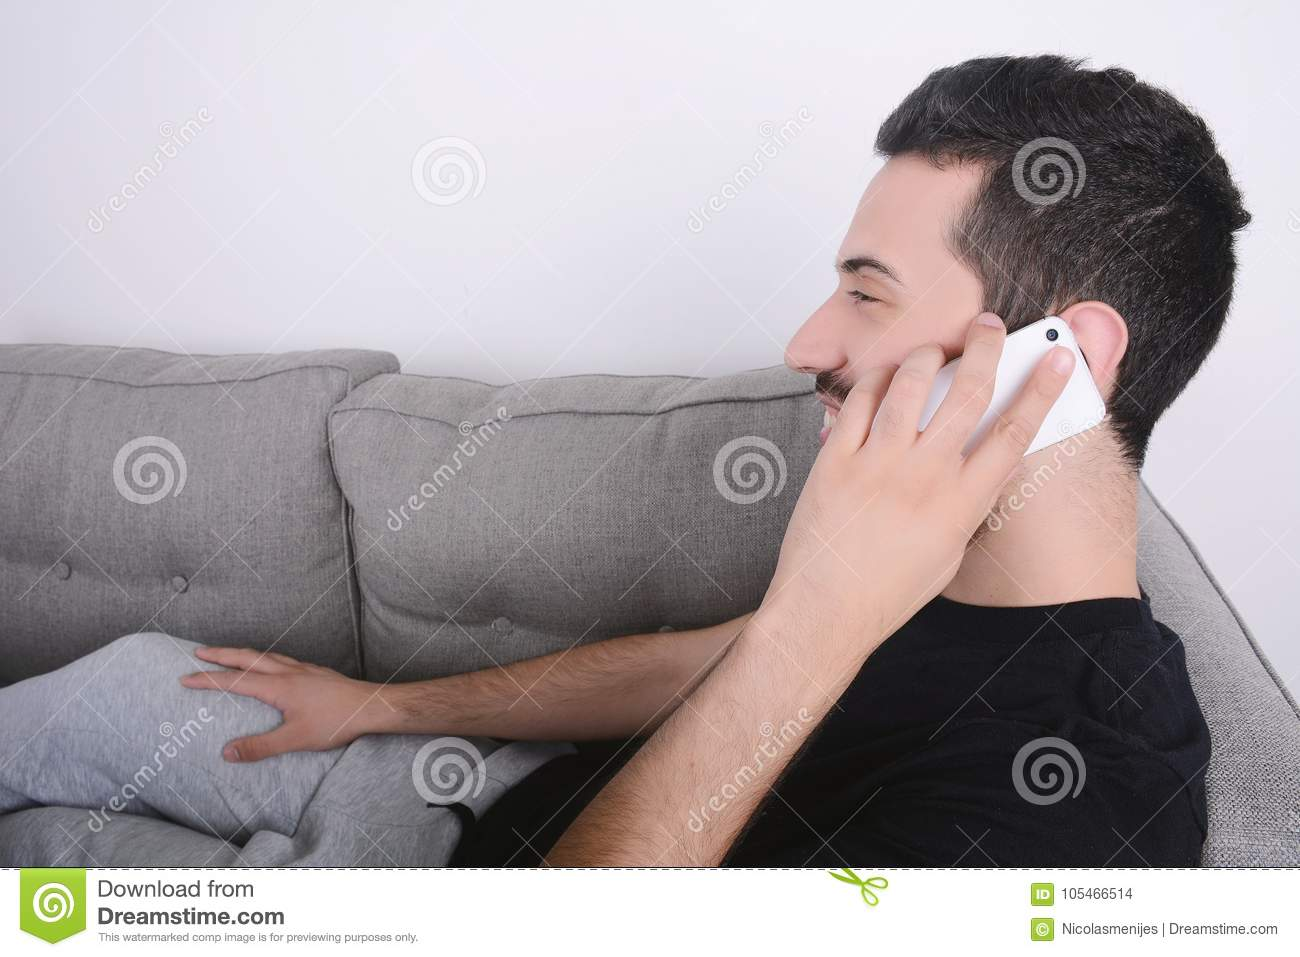phone: (878, 313, 1107, 470)
talk: (782, 259, 1129, 615)
